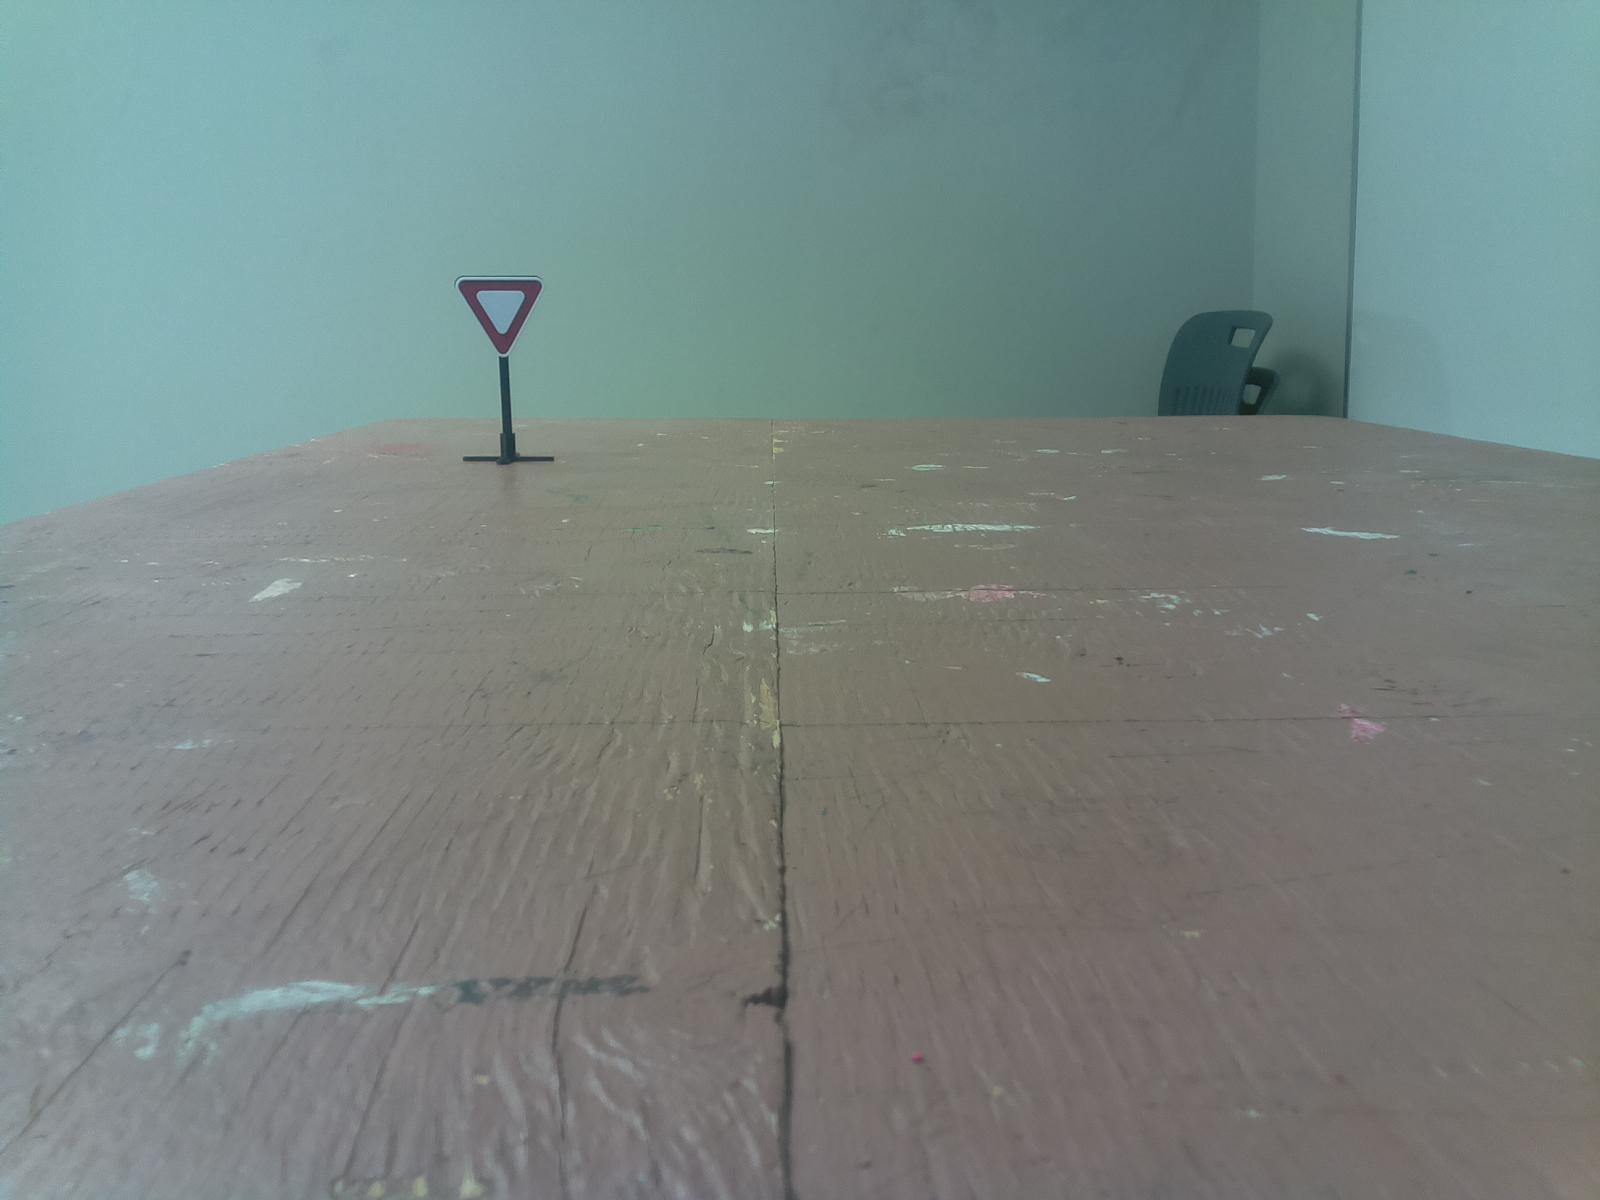sign_yield: (445, 271, 556, 362)
